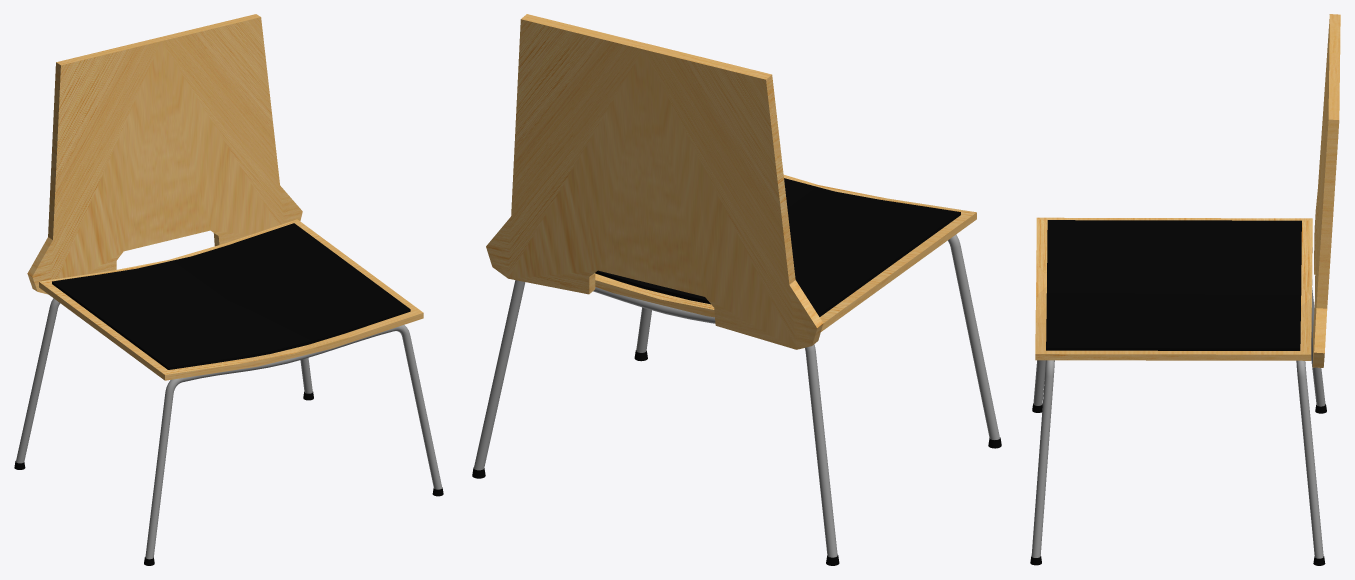
File: IKEA-Fritz_chair-3D.FBX
The picture shows the model from 3 angles, left to right: view 1: azimuth 30°, elevation 25°; view 2: azimuth 150°, elevation 25°; view 3: azimuth 270°, elevation 25°; orthographic projection. The views are drawn at different scales.
Visible parts, largest first — view 1: Cylinder01; view 2: Cylinder01; view 3: Cylinder01.
Part boxes in pixels (x1,y1,x2,y2): Cylinder01: (14,14,443,565); Cylinder01: (472,14,1001,565); Cylinder01: (1030,14,1340,565).
Size of the model in its own units: 0.7747 by 0.963 by 0.6432.
4 materials, 1 textured.
